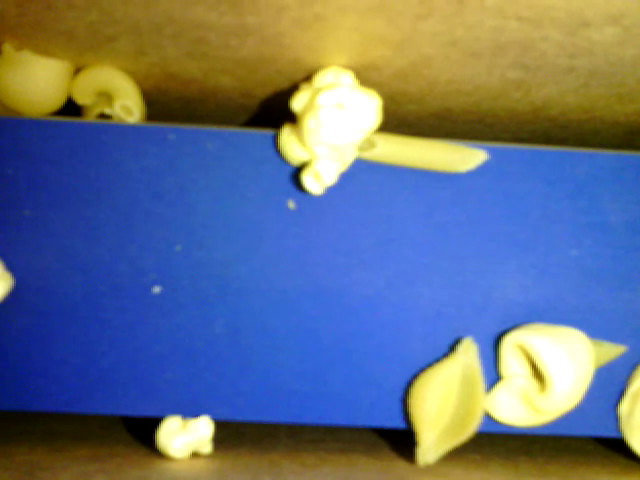elbow: (70, 64, 139, 121)
penne: (356, 133, 489, 175), (580, 338, 628, 367)
shell: (406, 336, 484, 467), (1, 43, 72, 115), (83, 92, 144, 122)
tortellini: (484, 321, 597, 428)
